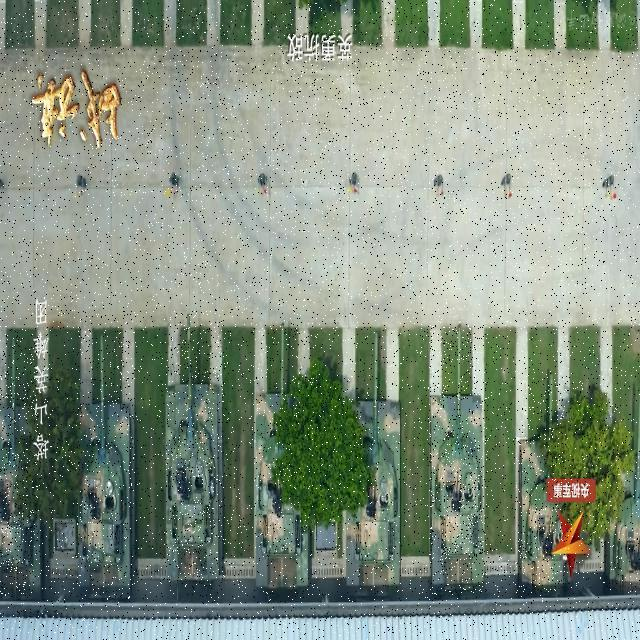MIL_MBT: (165, 310, 225, 590), (77, 314, 134, 598), (253, 322, 312, 595), (430, 324, 488, 595), (349, 324, 401, 593), (518, 369, 566, 595), (0, 334, 38, 598)
